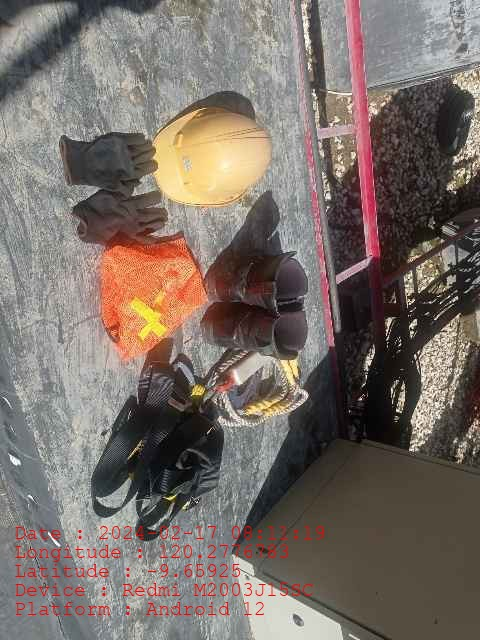HELM: (152, 107, 271, 205)
ROMPI: (102, 237, 204, 354)
SARUNG_TANGAN: (68, 187, 166, 245), (59, 133, 156, 190)
SEPATU: (204, 252, 310, 361)
